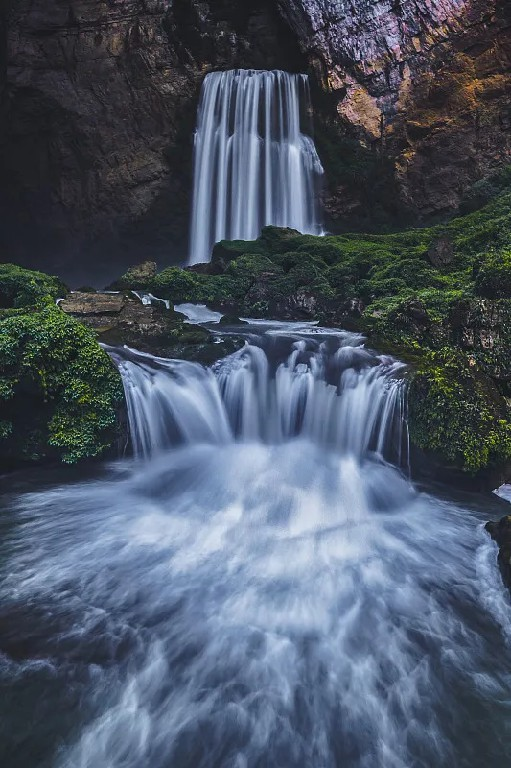Huangguoshu: (126, 70, 400, 459)
